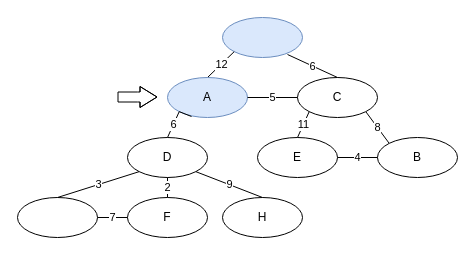
Image size: 475x255. Some labels were removed from this diagram. Here are the shapes that lost their labels. From the top down, the centre of each, then its label:
At pixel 262 37: "Start".
At pixel 57 217: "Goal".
